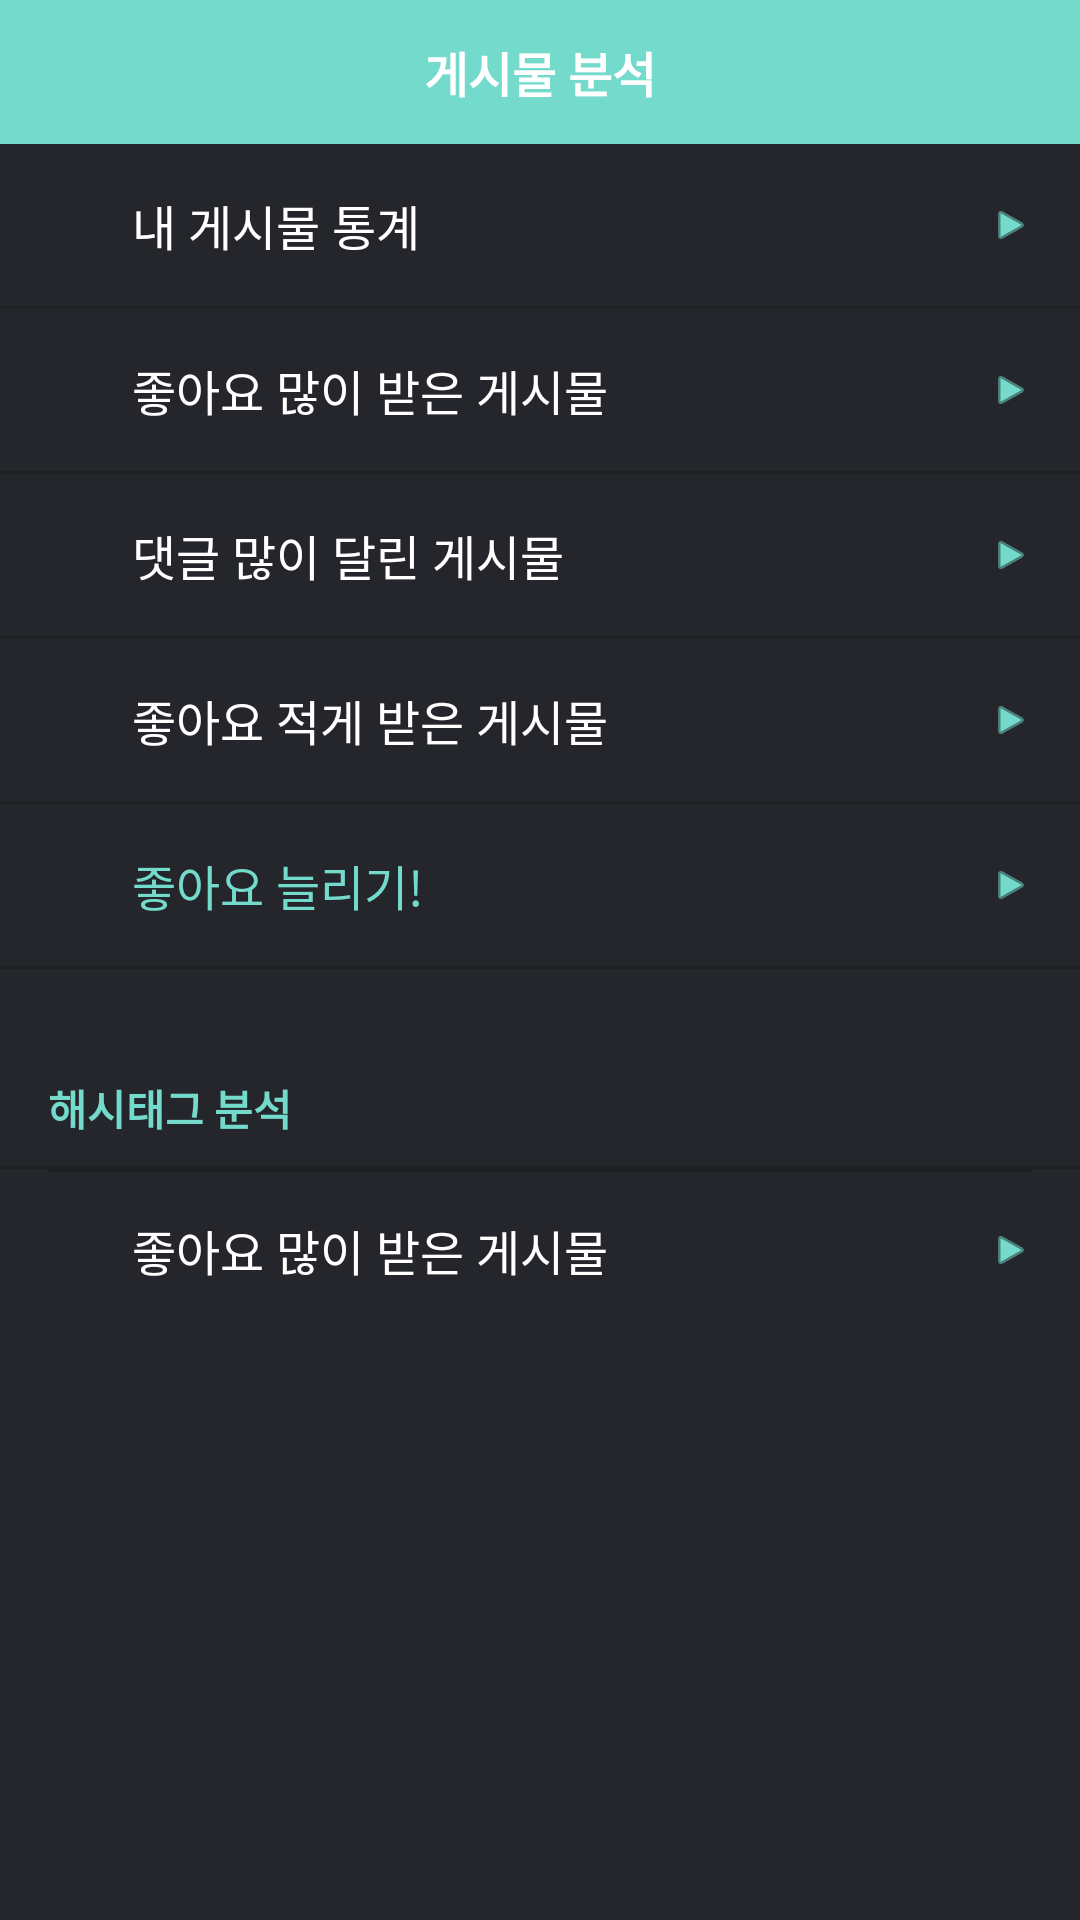

Where icons sit on this 1080x1920 app screen, as rect(x1, y1, x2, y2):
play: rect(998, 211, 1024, 239), rect(998, 376, 1024, 404), rect(998, 541, 1024, 569), rect(998, 706, 1024, 734), rect(998, 871, 1024, 899), rect(998, 1236, 1024, 1264)
